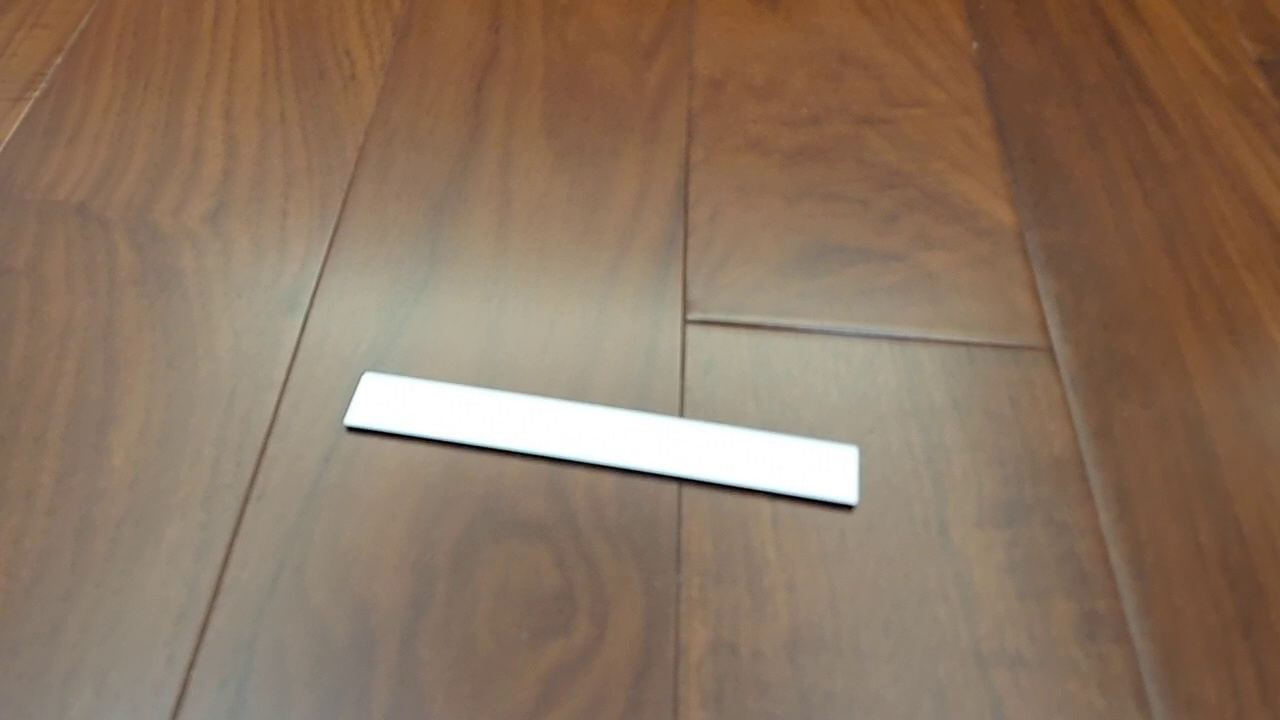ruler: (341, 369, 861, 507)
